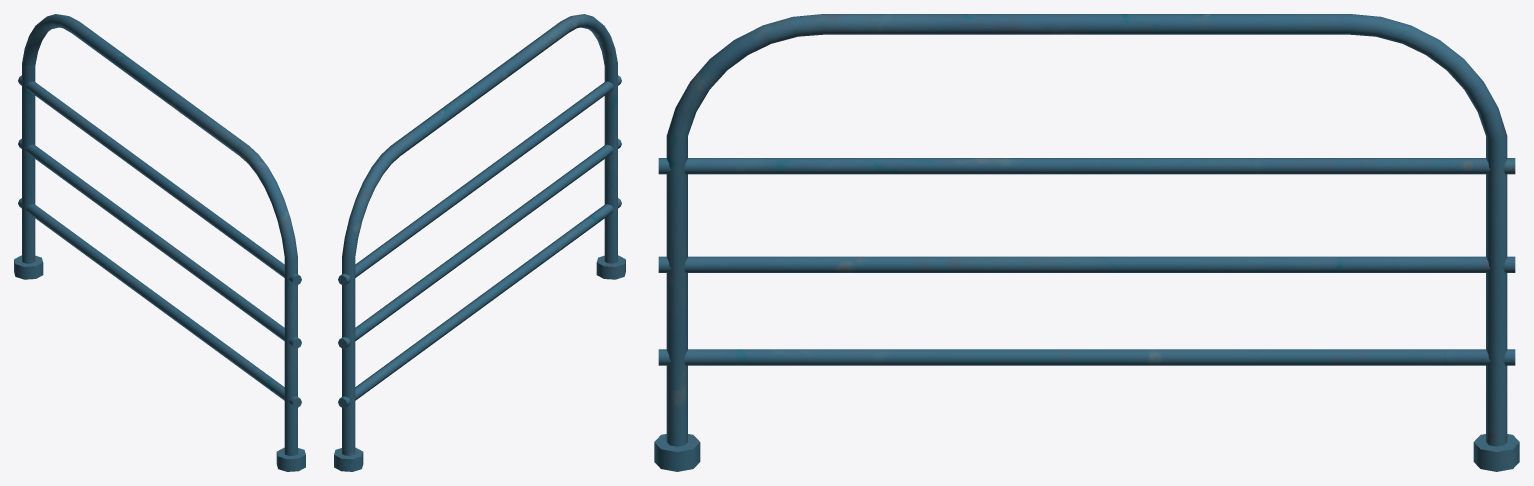
Rendered from Loco_Handrail.fbx.
3 renders of one model, left to right at view 1: azimuth 30°, elevation 25°; view 2: azimuth 150°, elevation 25°; view 3: azimuth 270°, elevation 25°, orthographic. The views are drawn at different scales.
Parts seen in each view (by area): view 1: Loco_Handrail; view 2: Loco_Handrail; view 3: Loco_Handrail.
Part boxes in pixels (left/top/right/bottom): Loco_Handrail: left=14, top=14, right=305, bottom=471; Loco_Handrail: left=334, top=14, right=625, bottom=471; Loco_Handrail: left=654, top=14, right=1519, bottom=471.
Bounding box in the file's own units: 10.75 × 111 × 195.
